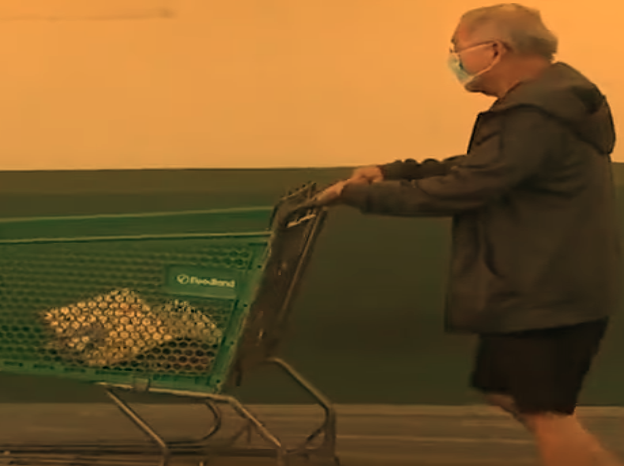mask_weared_incorrect: (441, 3, 515, 95)
